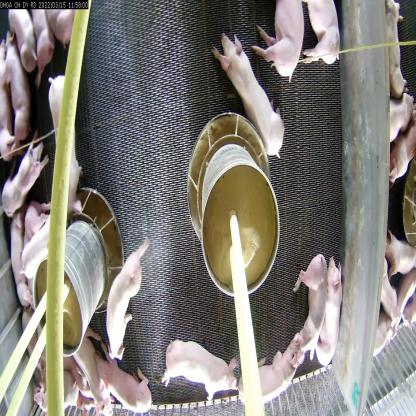Pig: (218, 30, 277, 150), (94, 235, 144, 369), (163, 333, 237, 413), (46, 70, 84, 216), (232, 335, 304, 405), (91, 339, 158, 409), (3, 131, 48, 219), (294, 251, 327, 360), (262, 1, 302, 86), (319, 258, 348, 367), (1, 38, 32, 131), (70, 332, 102, 410), (9, 219, 33, 305), (10, 8, 39, 66), (34, 6, 54, 86)
